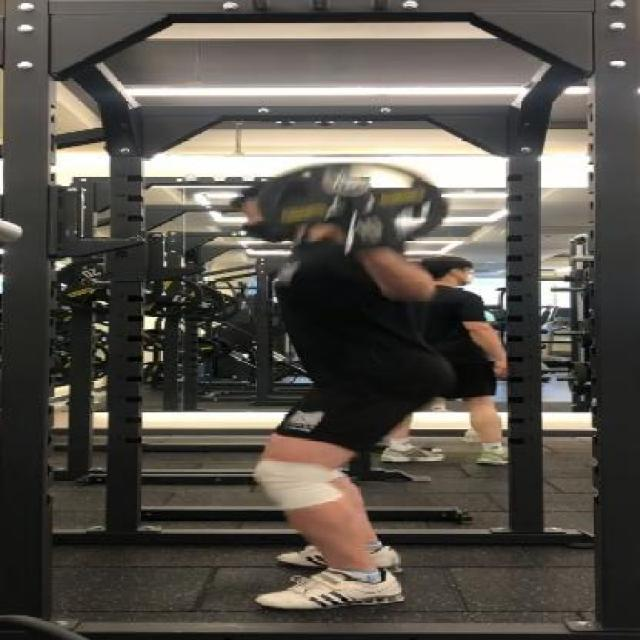barbell: (230, 147, 461, 260)
